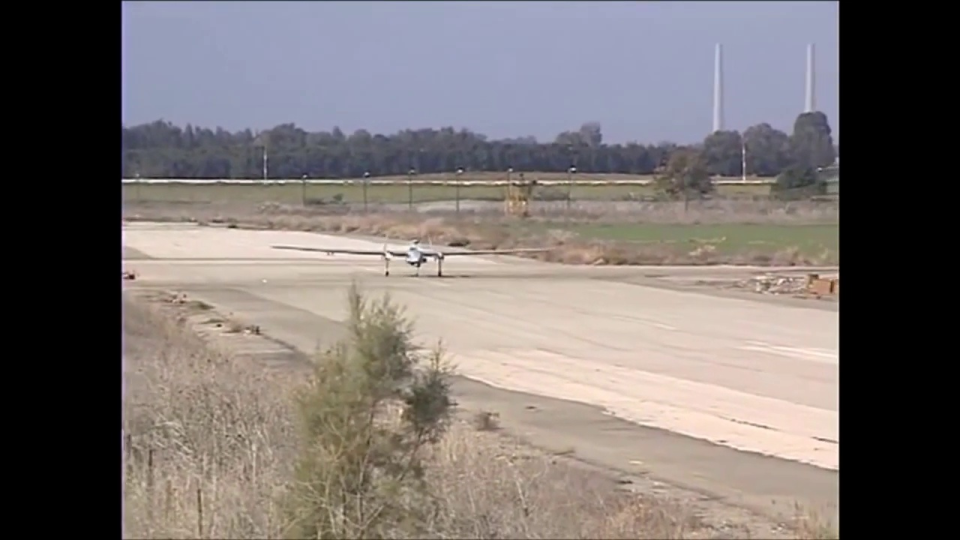military drone: (269, 231, 557, 277)
